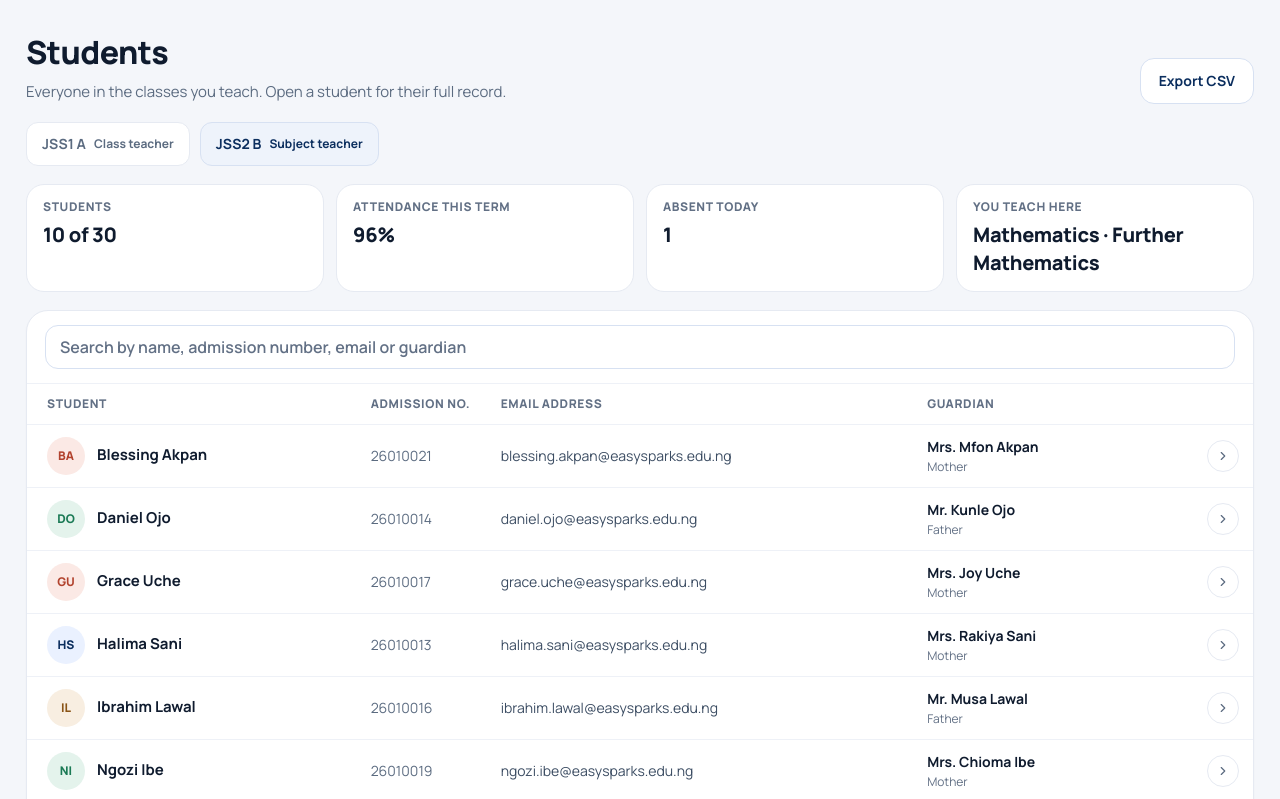
Scenario: Students list › switches tab with ?classId= and by clicking, and searches
expect the text "Mathematics · Further Mathematics" is shown: met, box [973,220,1184,276]
Type "zzz" into the search field named "Search students". click: (640, 346)
box: [45,324,1235,368]
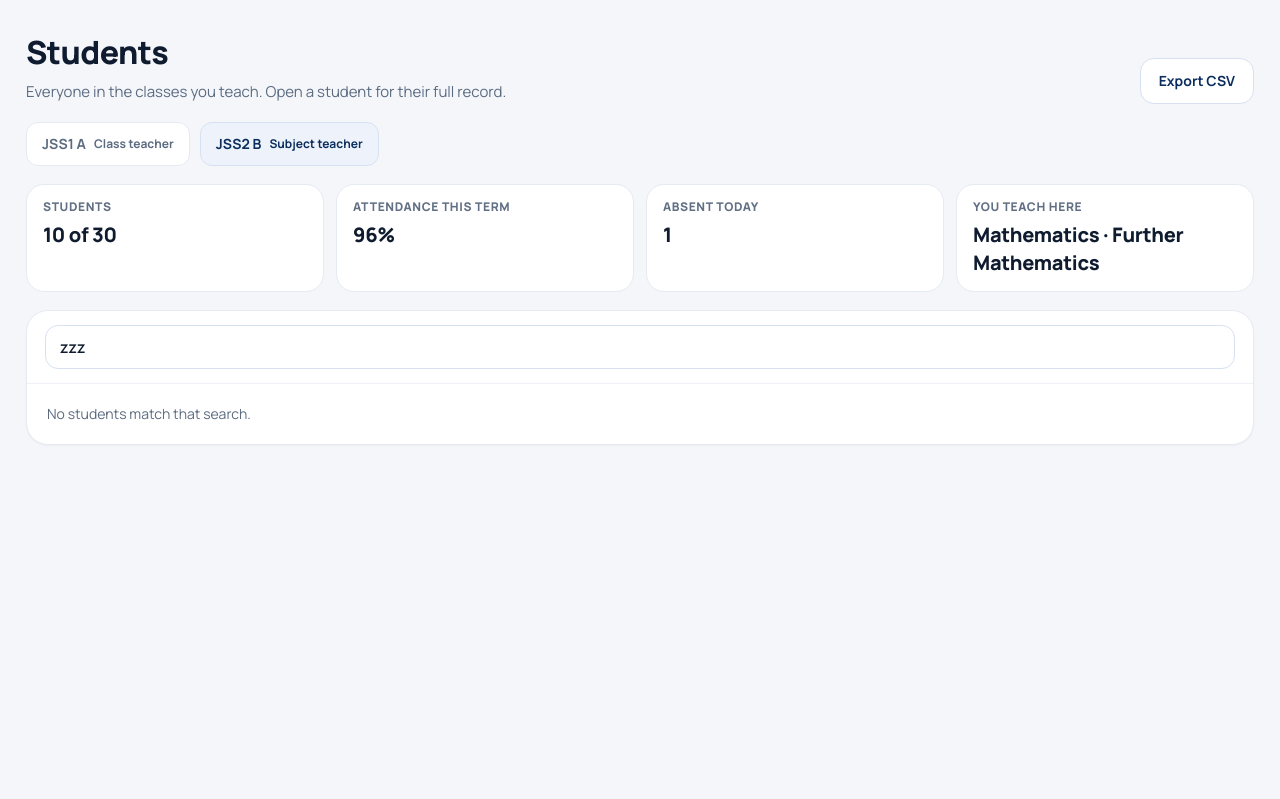
expect the text "No students match that search." is shown: met, box [47,404,251,422]
Click the button "JSS1 A Class teacher". click: click(108, 144)
box: [26,122,190,166]
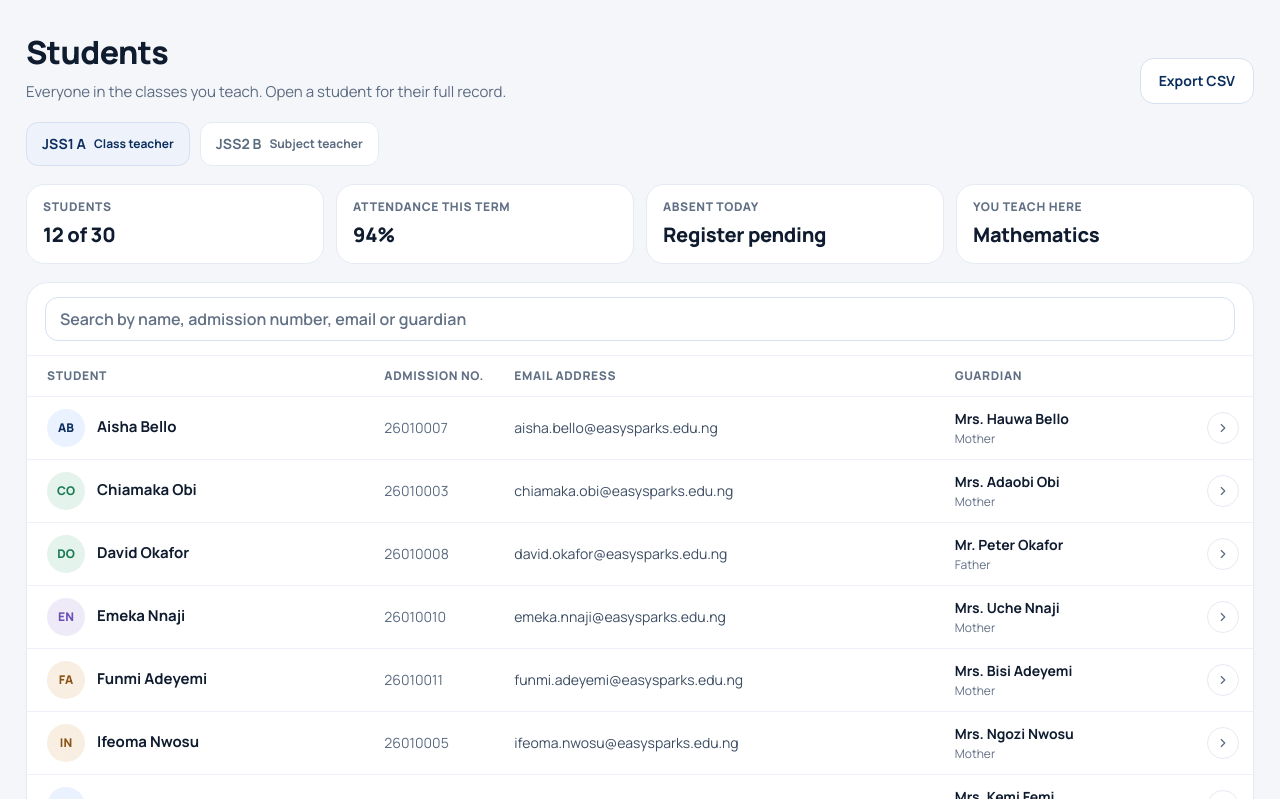
expect the text "12 of 30" is shown: met, box [43,220,115,248]
expect the search field named "Search students" is empty: met, box [45,296,1235,340]
